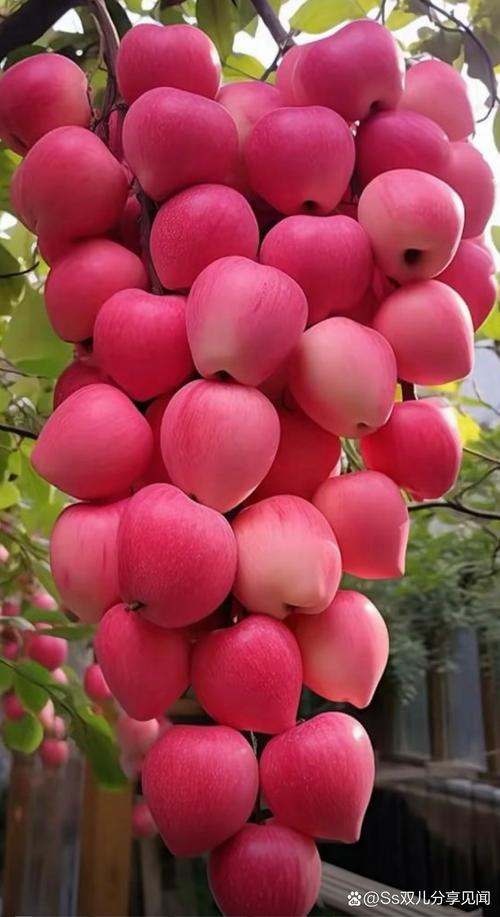ripe: (122, 723, 274, 861), (12, 370, 152, 508), (108, 482, 229, 632), (2, 115, 140, 243), (257, 709, 388, 842), (159, 372, 274, 517), (218, 494, 349, 618), (180, 255, 297, 381), (351, 168, 473, 288), (112, 80, 234, 199), (281, 316, 398, 437), (194, 615, 311, 735), (278, 23, 416, 115), (243, 105, 353, 215), (94, 606, 199, 721), (363, 276, 475, 381), (108, 19, 243, 105), (304, 473, 414, 578), (290, 597, 400, 702), (255, 218, 370, 313), (147, 182, 250, 288), (91, 285, 187, 398), (40, 250, 157, 342), (358, 405, 466, 498), (208, 812, 318, 903), (0, 49, 96, 140)
